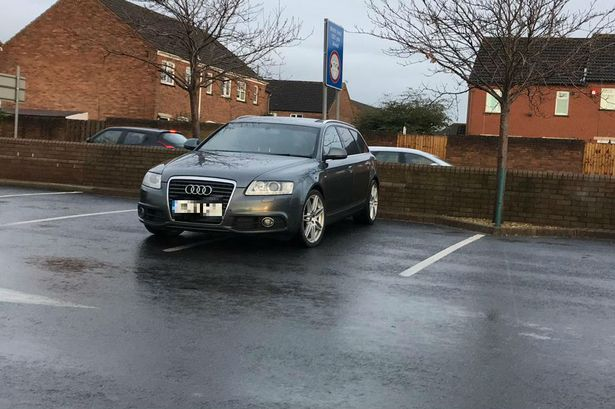car: (141, 115, 382, 251)
